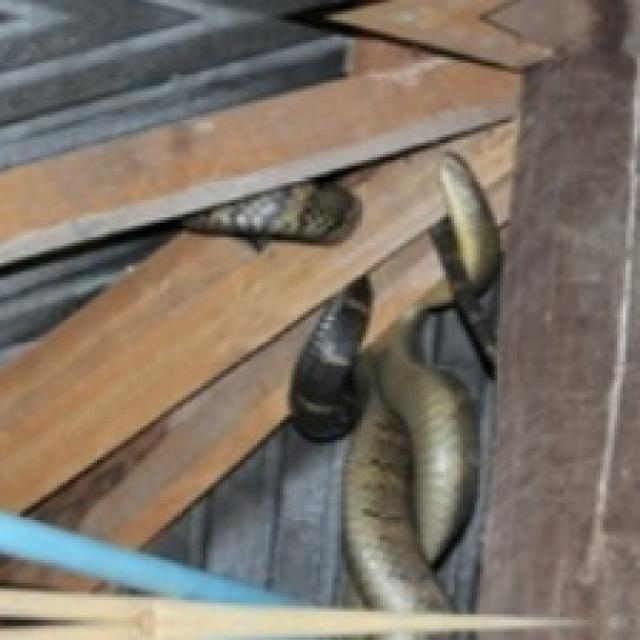king cobra: (343, 151, 497, 609), (343, 154, 497, 609)
